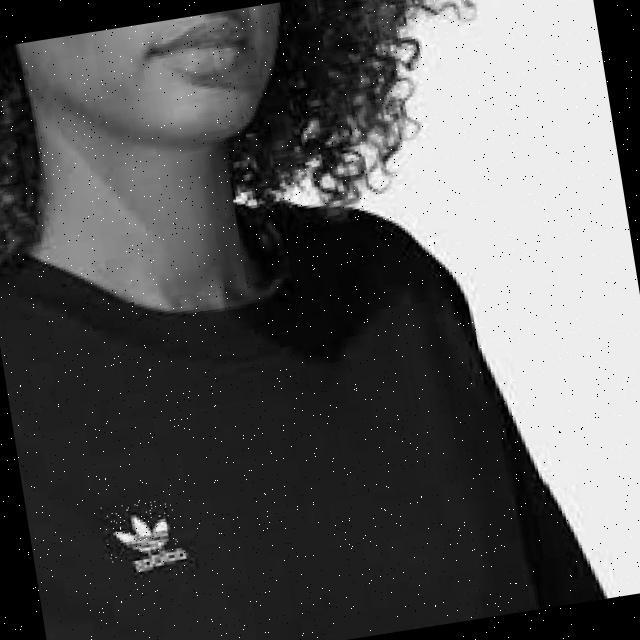Adidas: (101, 496, 180, 563)
